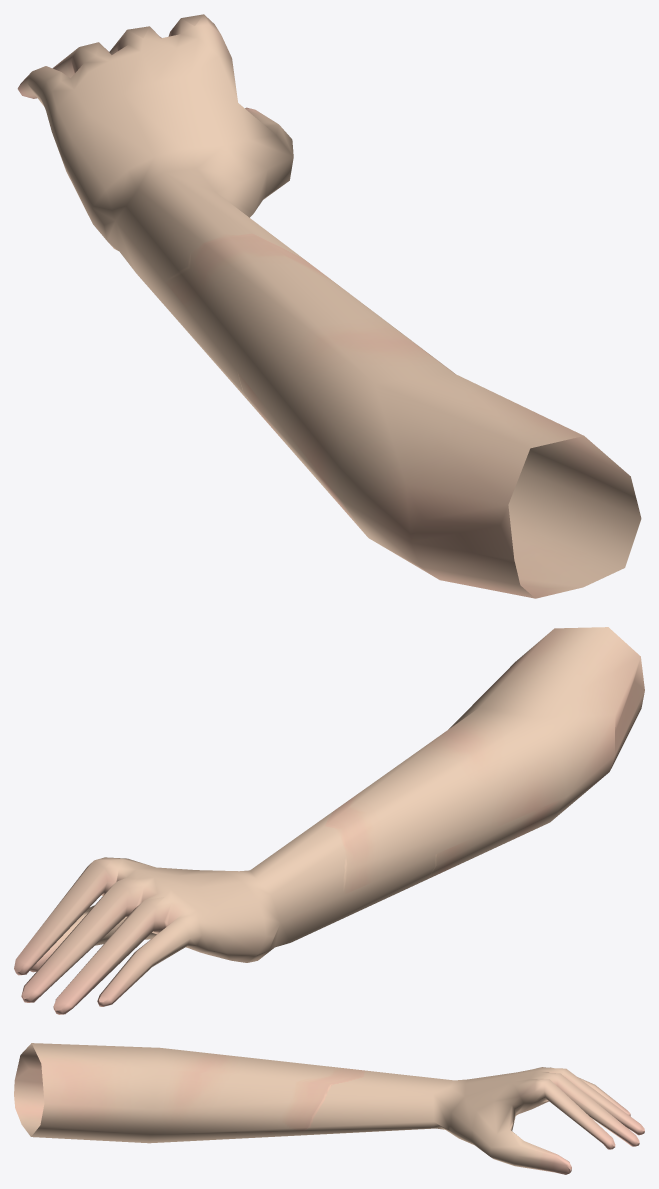
File: HAND.fbx
3 views of the same model, one above another, from view 1: azimuth 30°, elevation 25°; view 2: azimuth 150°, elevation 25°; view 3: azimuth 270°, elevation 25° (orthographic). The views are drawn at different scales.
Parts seen in each view (by area): view 1: left_band; view 2: left_band; view 3: left_band.
Part boxes in pixels (box(x1,y1,x2,y2)): left_band: box(17, 14, 641, 598); left_band: box(14, 627, 644, 1014); left_band: box(14, 1043, 644, 1174).
Size of the model in its own units: 11.47 by 6.31 by 38.11.
Materials: 1 (1 with a texture image).
